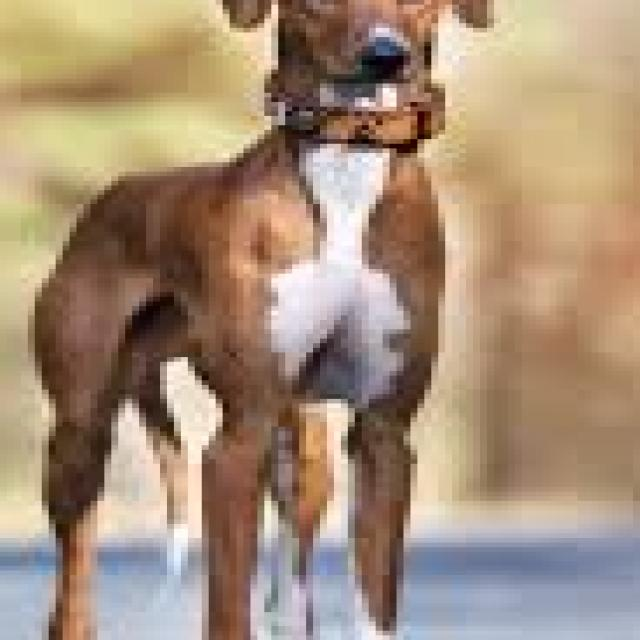dog: (0, 0, 536, 640)
